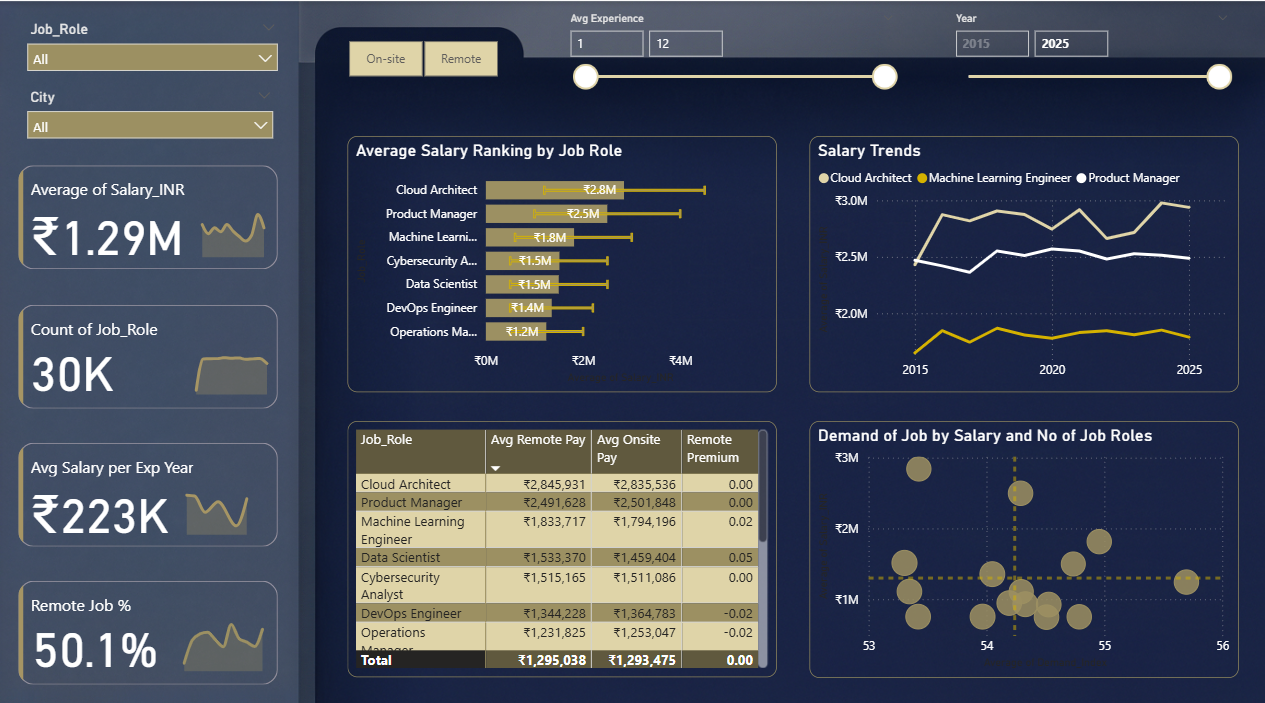

What the dashboard file says about the page in this screenshot:
{"tool":"powerbi","page":{"name":"Page 1","canvas":[1280,720],"ordinal":0},"visuals":[{"type":"cardVisual","fields":{"Data":["Avg(Job_Market_India.Salary_INR)"]},"box":[15.1,161.1,272.6,115.1],"z":0},{"type":"lineChart","fields":{"Category":["Job_Market_India.Year"],"Y":["Job_Market_India.Avg Salary per Exp Year"]},"box":[190.8,196,92.4,68.1],"z":1000},{"type":"cardVisual","title":"TO","fields":{"Data":["CountNonNull(Job_Market_India.Job_Role)"]},"box":[15.1,301,272.6,115.1],"z":2000},{"type":"lineChart","fields":{"Category":["Job_Market_India.Year"],"Y":["CountNonNull(Job_Market_India.Job_Role)"]},"box":[184.7,334.6,101.5,68.1],"z":3000},{"type":"cardVisual","fields":{"Data":["Job_Market_India.Avg Salary per Exp Year"]},"box":[15.1,440.8,272.6,115.1],"z":4000},{"type":"lineChart","fields":{"Category":["Job_Market_India.Avg Experience"],"Y":["Avg(Job_Market_India.Salary_INR)"]},"box":[172.6,475.5,109,68.1],"z":5000},{"type":"cardVisual","fields":{"Data":["Job_Market_India.Remote Job %"]},"box":[15.1,580.6,272.6,115.1],"z":6000},{"type":"lineChart","fields":{"Category":["Job_Market_India.Year"],"Y":["Job_Market_India.Remote Job %"]},"box":[172.6,612.9,109,68.1],"z":7000},{"type":"clusteredBarChart","title":"Average Salary Ranking by Job Role","fields":{"Category":["Job_Market_India.Job_Role","Job_Market_India.Company_Name"],"Y":["Avg(Job_Market_India.Salary_INR)"]},"box":[352.8,135.8,433.1,258.9],"z":8000},{"type":"pivotTable","fields":{"Rows":["Job_Market_India.Job_Role"],"Values":["Job_Market_India.Avg Remote Pay","Job_Market_India.Avg Onsite Pay","Job_Market_India.Remote Premium"]},"box":[352.8,424,433.1,258.9],"z":9000},{"type":"lineChart","title":"Salary Trends","fields":{"Category":["Job_Market_India.Year"],"Y":["Avg(Job_Market_India.Salary_INR)"],"Series":["Job_Market_India.Job_Role"]},"box":[819.2,135.8,433.1,258.9],"z":10000},{"type":"scatterChart","title":"Demand of Job by Salary and No of Job Roles","fields":{"Category":["Job_Market_India.Job_Role"],"X":["Avg(Job_Market_India.Demand_Index)"],"Y":["Avg(Job_Market_India.Salary_INR)"],"Size":["CountNonNull(Job_Market_India.Job_Role)"]},"box":[819.2,424.5,433,259],"z":11000},{"type":"slicer","fields":{"Values":["Job_Market_India.Job_Role"]},"box":[19.7,15.1,272.6,68.1],"z":12000},{"type":"slicer","fields":{"Values":["Job_Market_India.City"]},"box":[19.7,83.3,268,60.6],"z":13000},{"type":"slicer","fields":{"Values":["Job_Market_India.Avg Experience"]},"box":[564.8,6.1,351.3,93.9],"z":14000},{"type":"slicer","fields":{"Values":["Job_Market_India.Year"]},"box":[953.9,6.1,299.8,137.8],"z":15000},{"type":"slicer","fields":{"Values":["Job_Market_India.Remote Status"]},"box":[328.6,33.3,199.9,50],"z":16000}]}

Visuals, with their boxes in screenshot pixels (x1, y1, x2, y2), scaled from the page's 1280x720 canvas onto the 1265x703 screenshot:
cardVisual - Avg(Job_Market_India.Salary_INR): <bbox>15, 157, 284, 270</bbox>
lineChart - Job_Market_India.Year x Job_Market_India.Avg Salary per Exp Year: <bbox>189, 191, 280, 258</bbox>
"TO" cardVisual: <bbox>15, 294, 284, 406</bbox>
lineChart - Job_Market_India.Year x CountNonNull(Job_Market_India.Job_Role): <bbox>183, 327, 283, 393</bbox>
cardVisual - Job_Market_India.Avg Salary per Exp Year: <bbox>15, 430, 284, 543</bbox>
lineChart - Job_Market_India.Avg Experience x Avg(Job_Market_India.Salary_INR): <bbox>171, 464, 278, 531</bbox>
cardVisual - Job_Market_India.Remote Job %: <bbox>15, 567, 284, 679</bbox>
lineChart - Job_Market_India.Year x Job_Market_India.Remote Job %: <bbox>171, 598, 278, 665</bbox>
"Average Salary Ranking by Job Role" clusteredBarChart: <bbox>349, 133, 777, 385</bbox>
pivotTable - Job_Market_India.Job_Role x Job_Market_India.Avg Remote Pay: <bbox>349, 414, 777, 667</bbox>
"Salary Trends" lineChart: <bbox>810, 133, 1238, 385</bbox>
"Demand of Job by Salary and No of Job Roles" scatterChart: <bbox>810, 414, 1238, 667</bbox>
slicer - Job_Market_India.Job_Role: <bbox>19, 15, 289, 81</bbox>
slicer - Job_Market_India.City: <bbox>19, 81, 284, 141</bbox>
slicer - Job_Market_India.Avg Experience: <bbox>558, 6, 905, 98</bbox>
slicer - Job_Market_India.Year: <bbox>943, 6, 1239, 141</bbox>
slicer - Job_Market_India.Remote Status: <bbox>325, 33, 522, 81</bbox>
